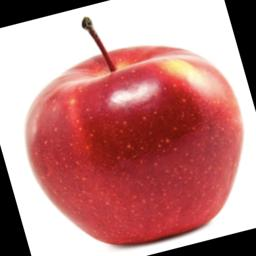Apple Fresh: (22, 17, 245, 247)
